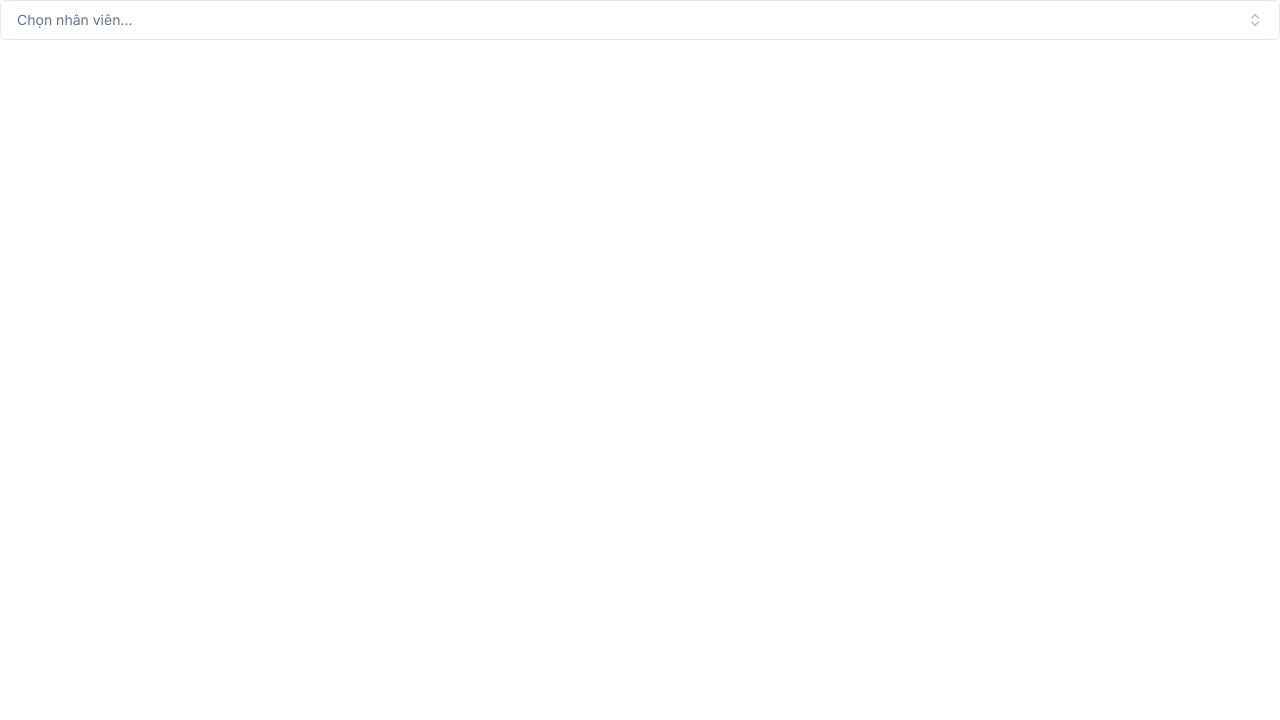
it: EmployeeCombobox › shows full department text without truncation classes
Click the dropdown.
click(75, 20)  # box [0, 0, 1279, 40]
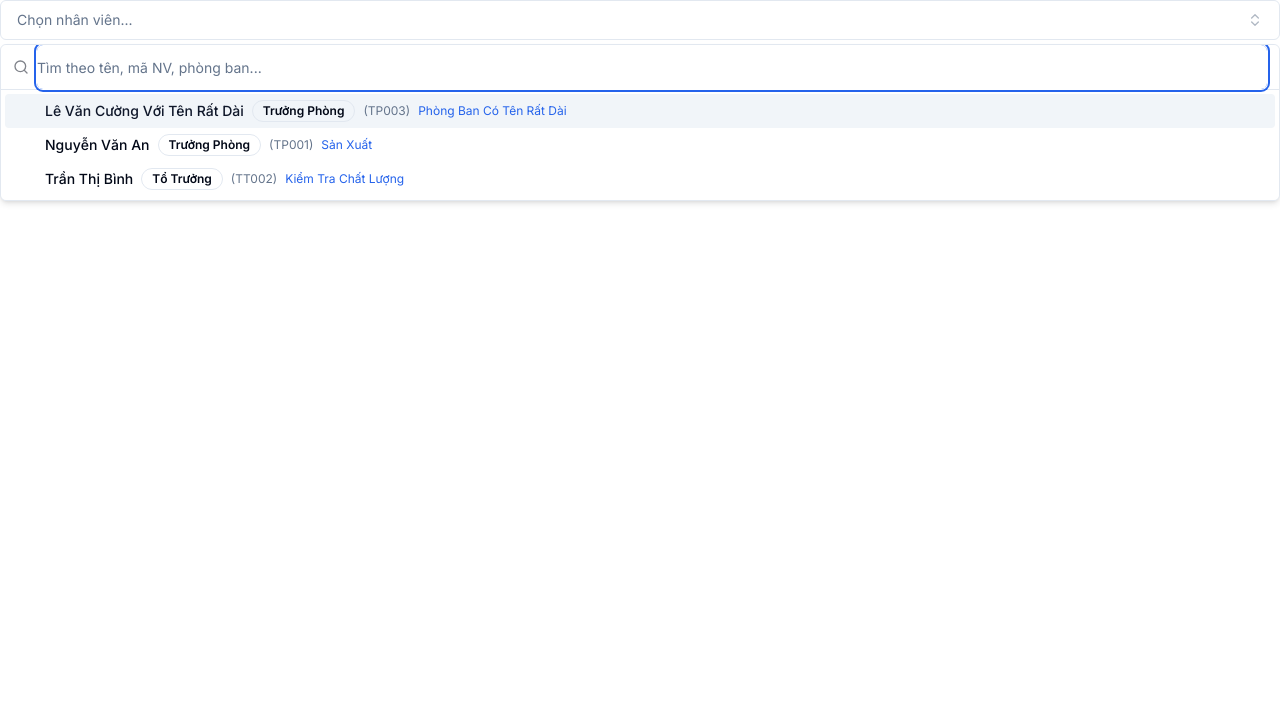
Result: the text "Phòng Ban Có Tên Rất Dài" is shown at [418, 103, 567, 119]
